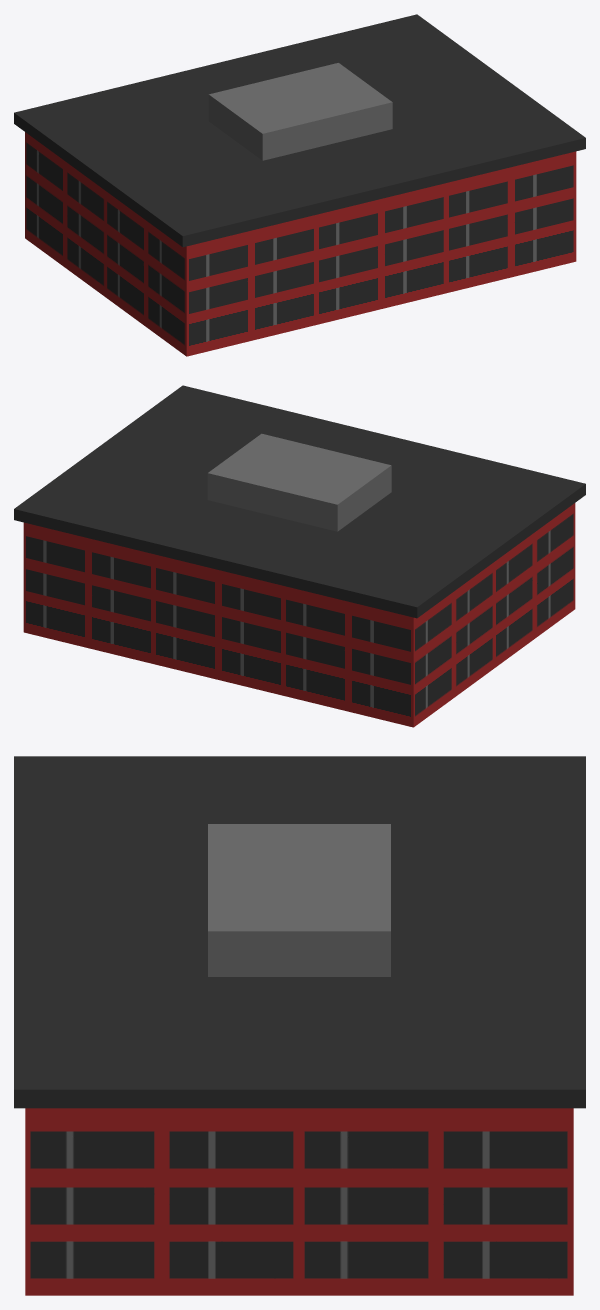
The model's file is Building 06.FBX.
3 renders of one model, top to bottom at view 1: azimuth 30°, elevation 25°; view 2: azimuth 150°, elevation 25°; view 3: azimuth 270°, elevation 25°, orthographic. The views are drawn at different scales.
Visible parts, largest first — view 1: Box001; view 2: Box001; view 3: Box001.
Boxes of the visible parts, x1,y1,x2,y2 form: Box001: (14,14,585,356); Box001: (14,385,585,727); Box001: (14,756,585,1295).
Size of the model in its own units: 68.97 by 24.78 by 50.02.
